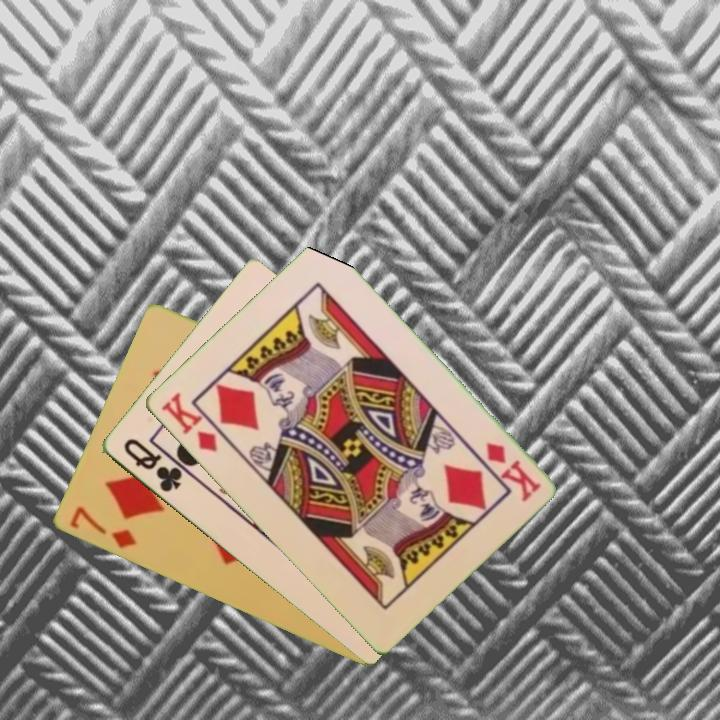7d: (66, 503, 139, 552)
Kd: (156, 388, 220, 456), (481, 439, 543, 504)
Qc: (119, 434, 185, 496)
